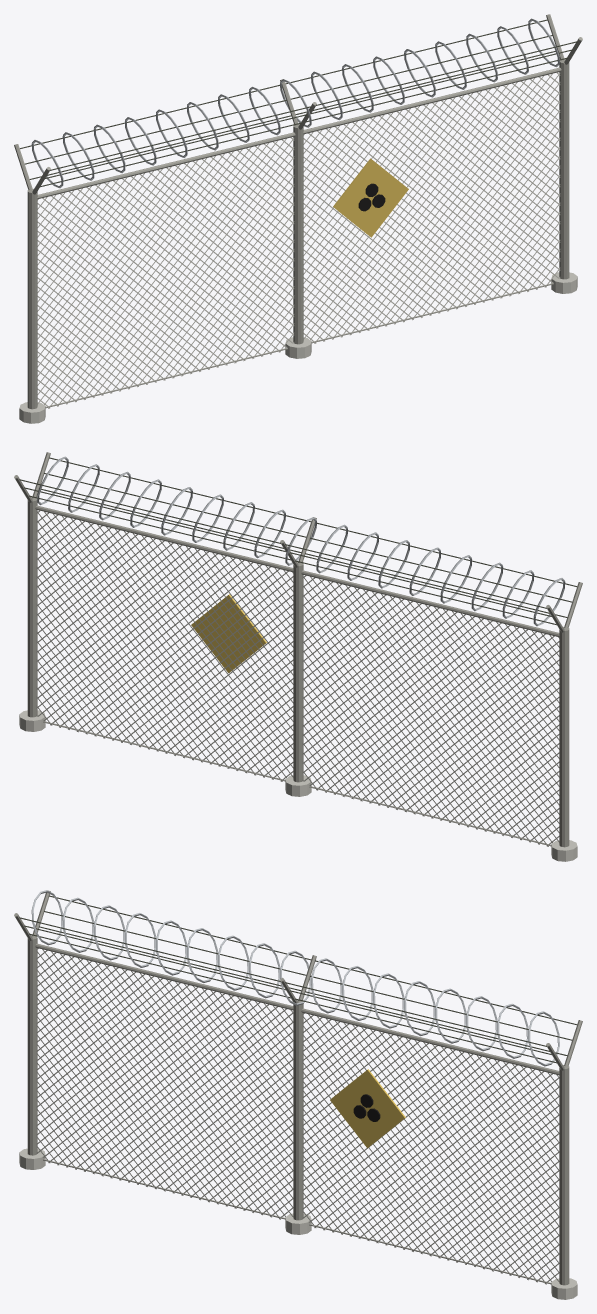
Rendered from lab_fence_run.glb.
3 renders of one model, top to bottom at view 1: azimuth 30°, elevation 25°; view 2: azimuth 150°, elevation 25°; view 3: azimuth 330°, elevation 25°, orthographic.
Parts seen in each view (by area): view 1: lab_fence_run; view 2: lab_fence_run; view 3: lab_fence_run.
Boxes of the visible parts, x1=… form: lab_fence_run: x1=14, y1=14, x2=582, y2=423; lab_fence_run: x1=14, y1=452, x2=582, y2=861; lab_fence_run: x1=14, y1=890, x2=582, y2=1299.
Size of the model in its own units: 6.25 by 2.96 by 0.675.
